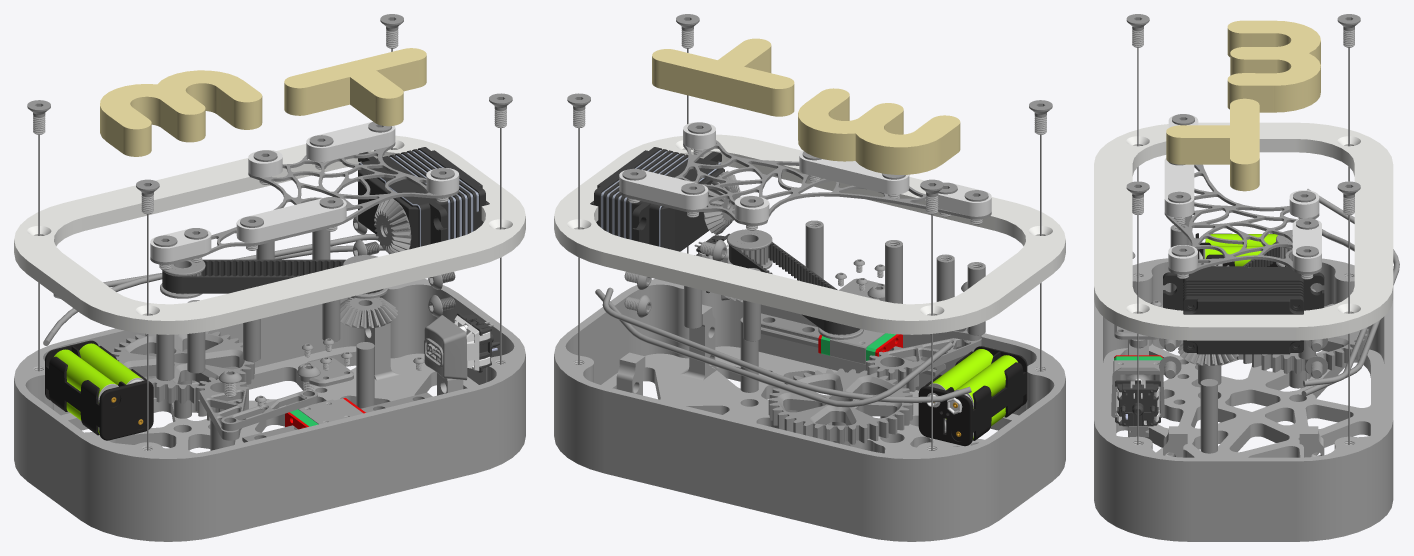
Rendered from mechanism.glb.
3 renders of one model, left to right at view 1: azimuth 30°, elevation 25°; view 2: azimuth 150°, elevation 25°; view 3: azimuth 270°, elevation 25°, orthographic. The views are drawn at different scales.
Visible parts, largest first — view 1: object 69, anim_mt_74_Component59_1, anim_mt_73_Component58_1, anim_mt_78_Component63_1, anim_mt_0_DDJ_STDLOW2_M2H_CNC_1, anim_mt_14_Body_1, anim_mt_83_Component68_1, anim_mt_27_Spur_Gear_36_teeth_1, anim_mt_13_monkeybelt_1_v1_1, anim_mt_72_Component57_1, anim_mt_39_Component38_1, anim_mt_71_Component56_1 (+20 smaller); view 2: object 69, anim_mt_74_Component59_1, anim_mt_73_Component58_1, anim_mt_27_Spur_Gear_36_teeth_1, anim_mt_78_Component63_1, anim_mt_0_DDJ_STDLOW2_M2H_CNC_1, anim_mt_83_Component68_1, anim_mt_14_Body_1, anim_mt_70_Component55_1, anim_mt_69_Component54_1, anim_mt_28_Spur_Gear_12_teeth_1, anim_mt_72_Component57_1 (+16 smaller); view 3: object 69, anim_mt_74_Component59_1, anim_mt_73_Component58_1, anim_mt_78_Component63_1, anim_mt_0_DDJ_STDLOW2_M2H_CNC_1, anim_mt_83_Component68_1, anim_mt_1_DDJ_STDLOW2_B_CNC_1, anim_mt_27_Spur_Gear_36_teeth_1, anim_mt_32_Bottom_1, anim_mt_72_Component57_1, anim_mt_87_Component73_1, anim_mt_71_Component56_1 (+19 smaller).
Boxes of the visible parts, x1,y1,x2,y2 form: object 69: [14, 279, 525, 541]; anim_mt_74_Component59_1: [14, 135, 525, 334]; anim_mt_73_Component58_1: [100, 70, 262, 156]; anim_mt_78_Component63_1: [284, 48, 426, 126]; anim_mt_0_DDJ_STDLOW2_M2H_CNC_1: [358, 147, 483, 249]; anim_mt_14_Body_1: [45, 340, 153, 440]; anim_mt_83_Component68_1: [150, 142, 458, 264]; anim_mt_27_Spur_Gear_36_teeth_1: [111, 331, 254, 403]; anim_mt_13_monkeybelt_1_v1_1: [162, 259, 383, 293]; anim_mt_72_Component57_1: [236, 198, 346, 242]; anim_mt_39_Component38_1: [424, 315, 467, 380]; anim_mt_71_Component56_1: [306, 122, 395, 161]; object 69: [554, 279, 1065, 541]; anim_mt_74_Component59_1: [554, 134, 1065, 334]; anim_mt_73_Component58_1: [798, 88, 960, 174]; anim_mt_27_Spur_Gear_36_teeth_1: [768, 368, 913, 444]; anim_mt_78_Component63_1: [652, 38, 794, 116]; anim_mt_0_DDJ_STDLOW2_M2H_CNC_1: [596, 147, 724, 251]; anim_mt_83_Component68_1: [619, 140, 991, 225]; anim_mt_14_Body_1: [918, 346, 1027, 446]; anim_mt_70_Component55_1: [602, 287, 971, 402]; anim_mt_69_Component54_1: [595, 289, 953, 407]; anim_mt_28_Spur_Gear_12_teeth_1: [866, 338, 981, 391]; anim_mt_72_Component57_1: [799, 151, 909, 194]; object 69: [1094, 258, 1393, 541]; anim_mt_74_Component59_1: [1094, 122, 1393, 340]; anim_mt_73_Component58_1: [1227, 20, 1320, 112]; anim_mt_78_Component63_1: [1166, 98, 1259, 191]; anim_mt_0_DDJ_STDLOW2_M2H_CNC_1: [1163, 266, 1324, 346]; anim_mt_83_Component68_1: [1164, 164, 1321, 274]; anim_mt_1_DDJ_STDLOW2_B_CNC_1: [1183, 297, 1303, 354]; anim_mt_27_Spur_Gear_36_teeth_1: [1236, 303, 1368, 374]; anim_mt_32_Bottom_1: [1115, 380, 1160, 426]; anim_mt_72_Component57_1: [1164, 158, 1194, 217]; anim_mt_87_Component73_1: [1200, 379, 1217, 453]; anim_mt_71_Component56_1: [1292, 219, 1321, 271].
Bounding box in the file's own units: 0.1635 × 0.13 × 0.1033.
